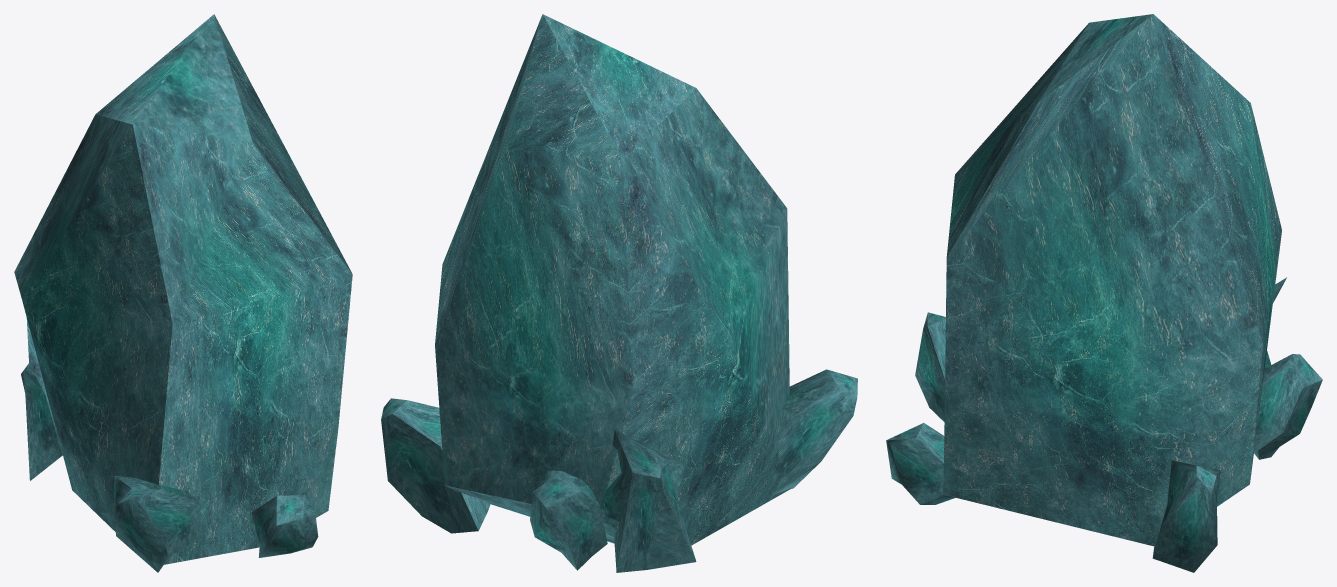
Rendered from bing.FBX.
3 views of the same model, side by side, from view 1: azimuth 30°, elevation 25°; view 2: azimuth 150°, elevation 25°; view 3: azimuth 270°, elevation 25° (orthographic). The views are drawn at different scales.
Parts seen in each view (by area): view 1: Box01; view 2: Box01; view 3: Box01.
Boxes of the visible parts, x1=… form: Box01: x1=14, y1=14, x2=352, y2=572; Box01: x1=381, y1=14, x2=857, y2=572; Box01: x1=886, y1=14, x2=1322, y2=572.
Bounding box in the file's own units: 20.54 × 22.52 × 29.65.
Materials: 1 (1 with a texture image).
